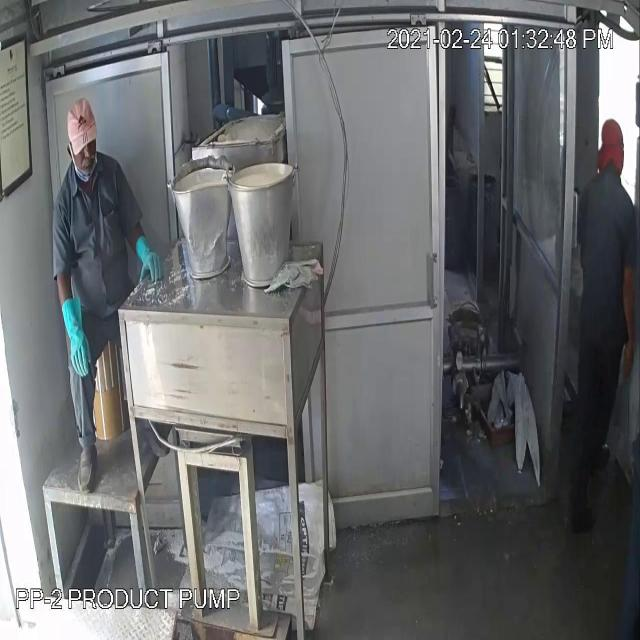no-helmet: (59, 90, 107, 162)
